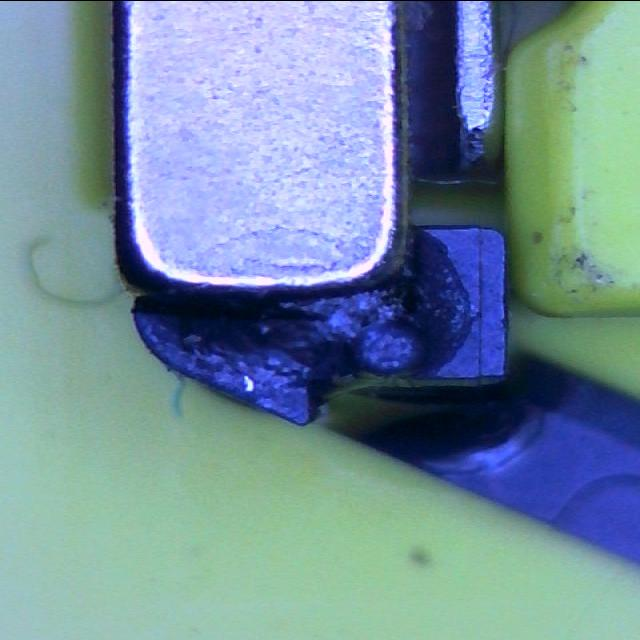over: (169, 300, 344, 380)
